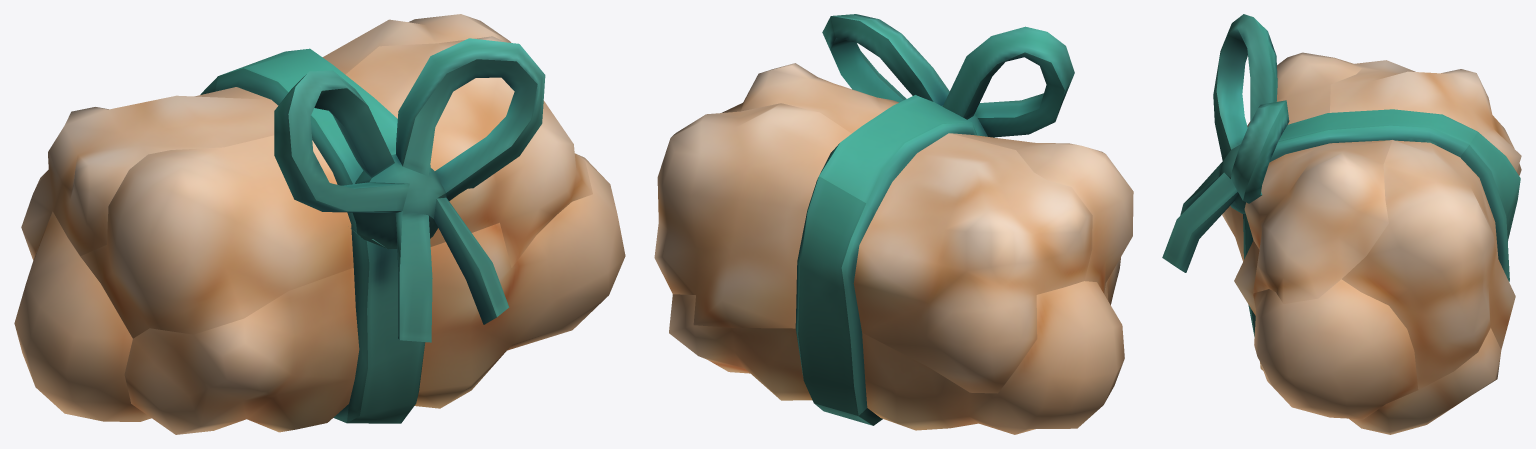
File: cotton_from_scrap_mechanic.glb
The picture shows the model from 3 angles, left to right: view 1: azimuth 30°, elevation 25°; view 2: azimuth 150°, elevation 25°; view 3: azimuth 270°, elevation 25°; orthographic projection. The views are drawn at different scales.
Visible parts, largest first — view 1: obj_consumable_cotton_0; view 2: obj_consumable_cotton_0; view 3: obj_consumable_cotton_0.
Part boxes in pixels (x1=…): obj_consumable_cotton_0: x1=14, y1=14, x2=625, y2=434; obj_consumable_cotton_0: x1=654, y1=14, x2=1133, y2=434; obj_consumable_cotton_0: x1=1162, y1=14, x2=1521, y2=434.
Size of the model in its own units: 0.1136 by 0.0788 by 0.08.
1 material, 1 textured.
